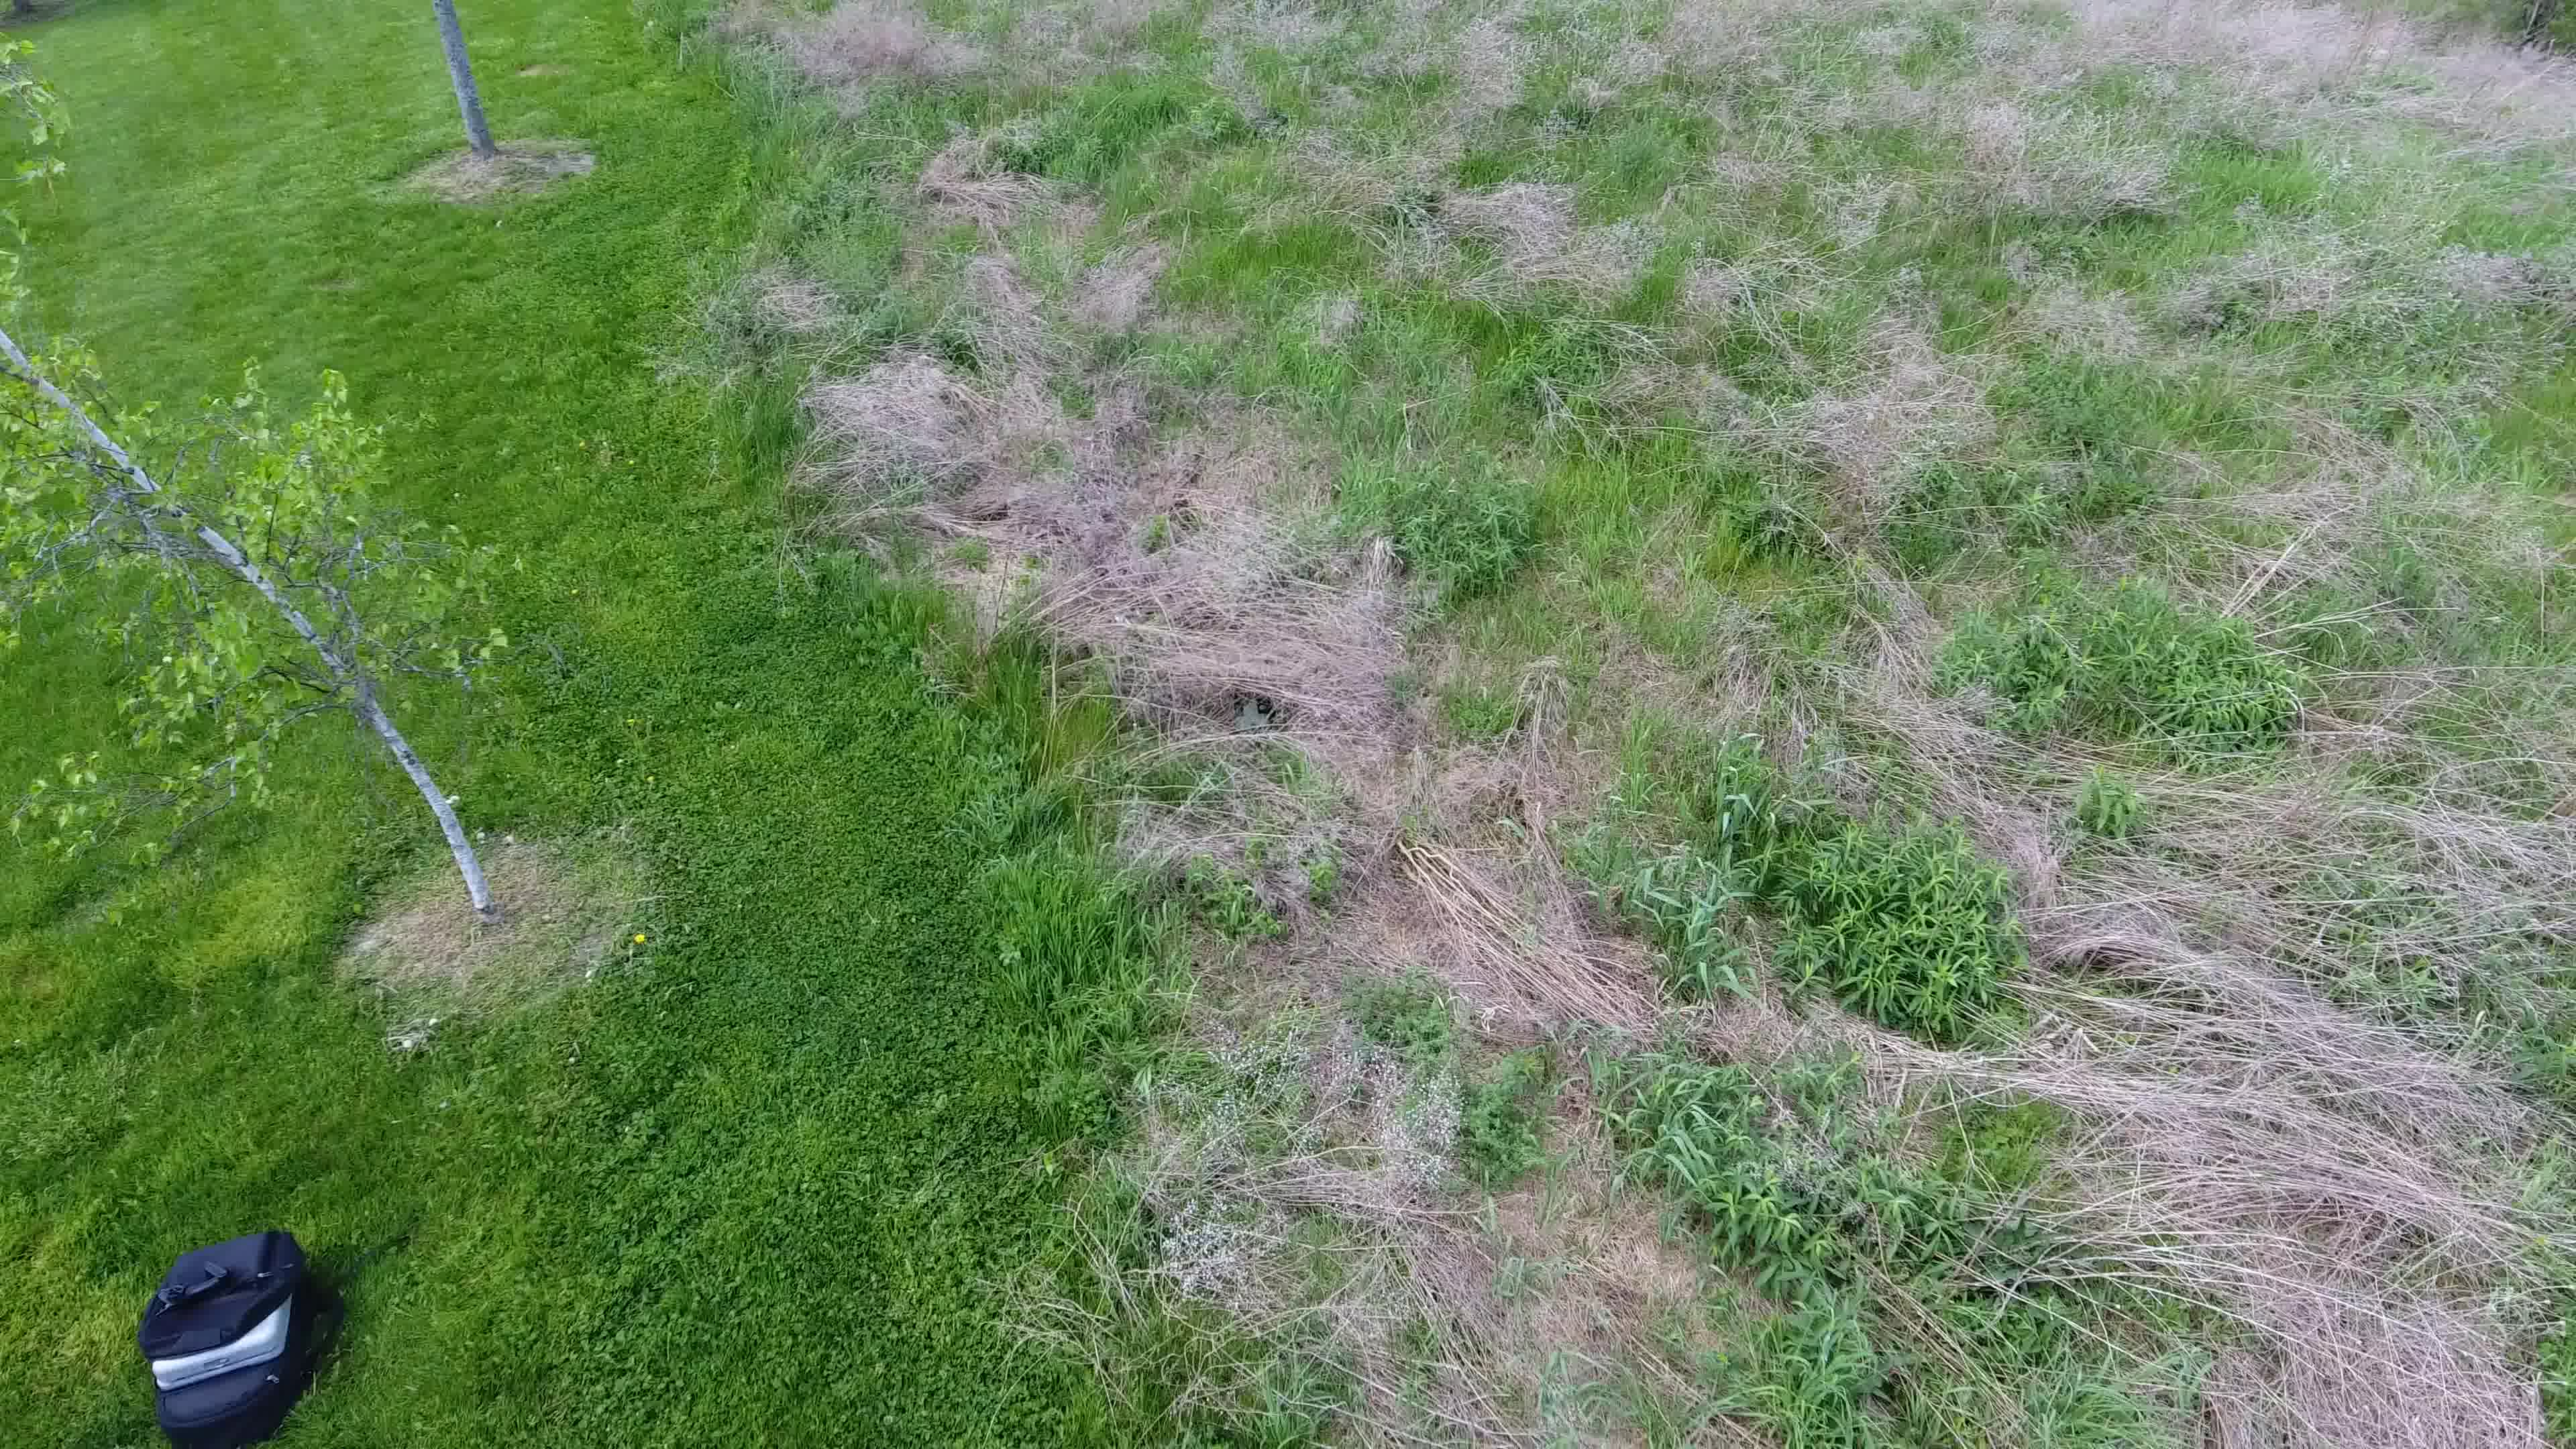transporter9: (1226, 692, 1277, 734)
